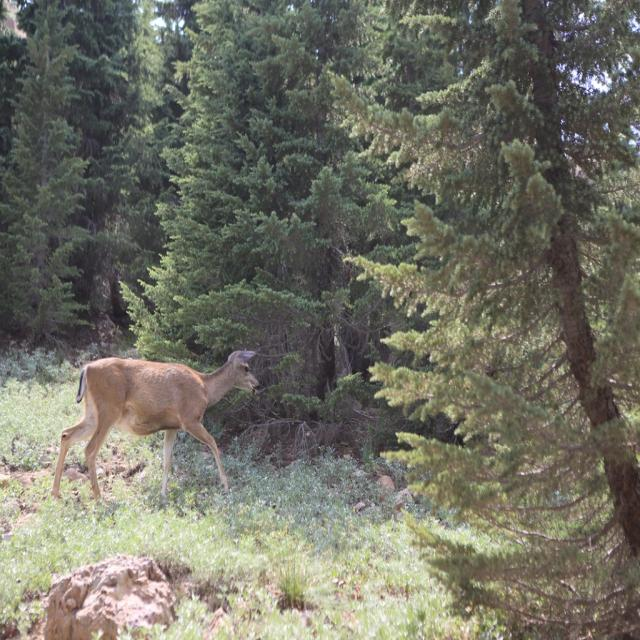Deer: (52, 348, 259, 509)
